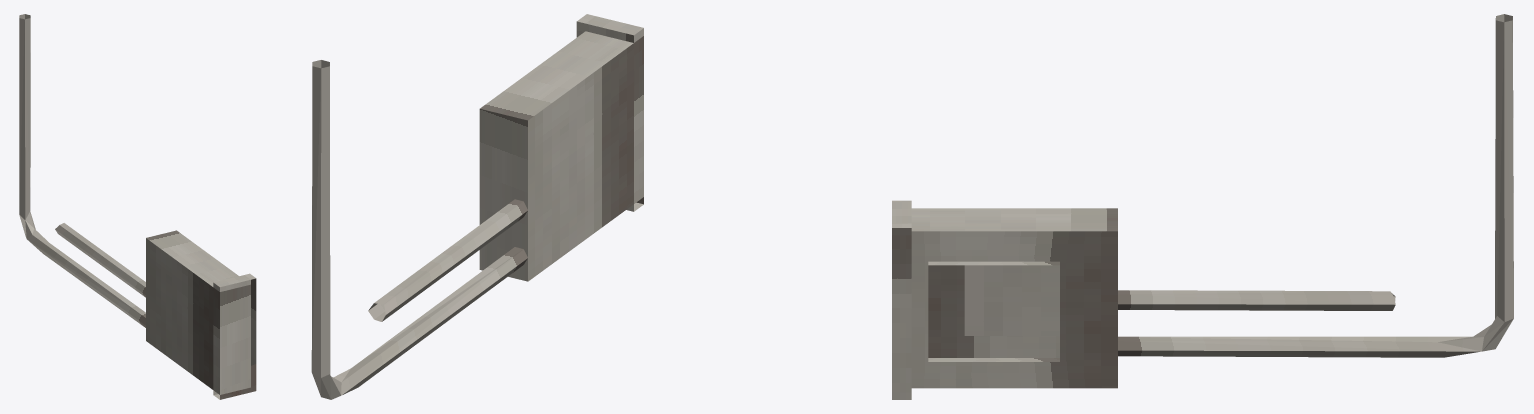
3 views of the same model, side by side, from view 1: azimuth 30°, elevation 25°; view 2: azimuth 150°, elevation 25°; view 3: azimuth 270°, elevation 25° (orthographic). The views are drawn at different scales.
Bounding box in the file's own units: 0.1089 × 0.4797 × 0.9185.
